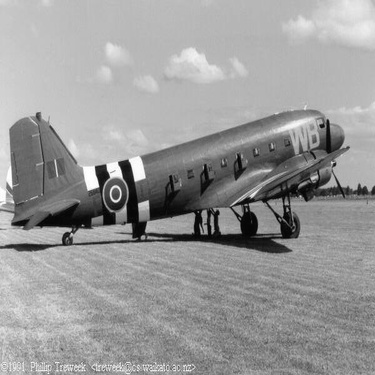airplane: (2, 97, 352, 260)
